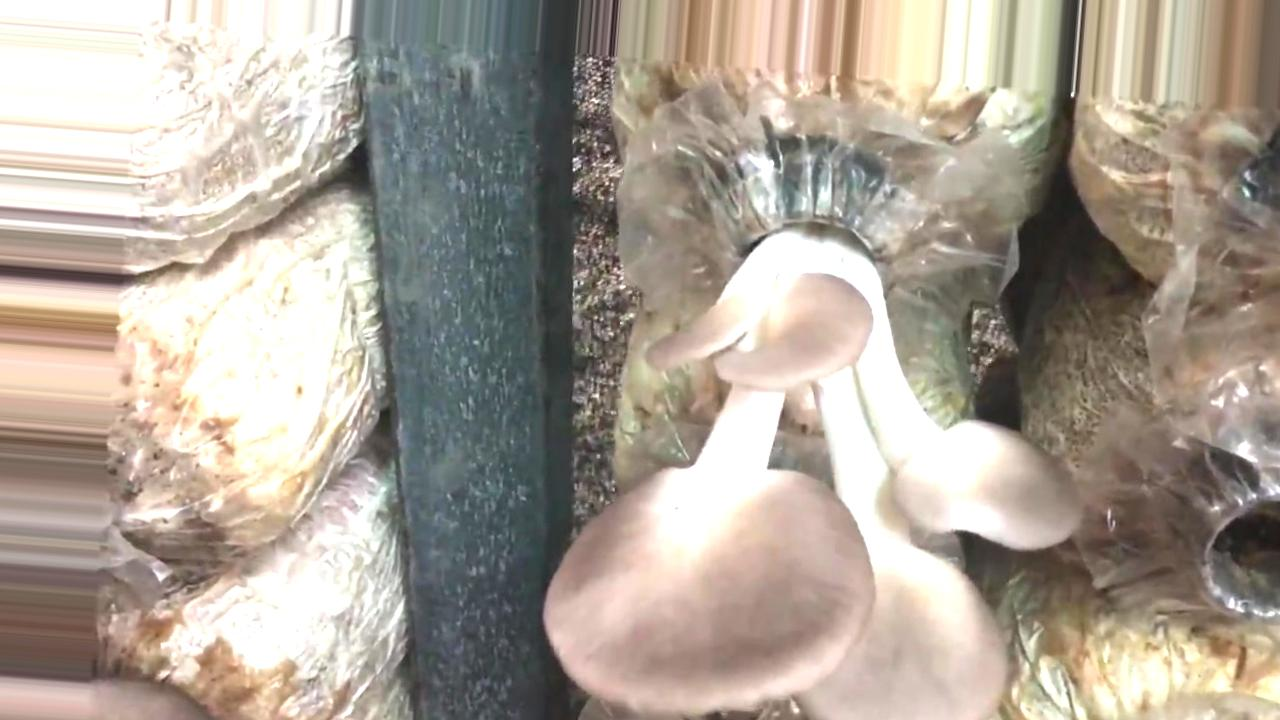nam: (546, 173, 1080, 720)
